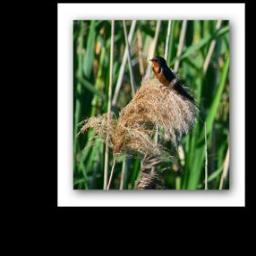Swallow: (147, 54, 200, 107)
